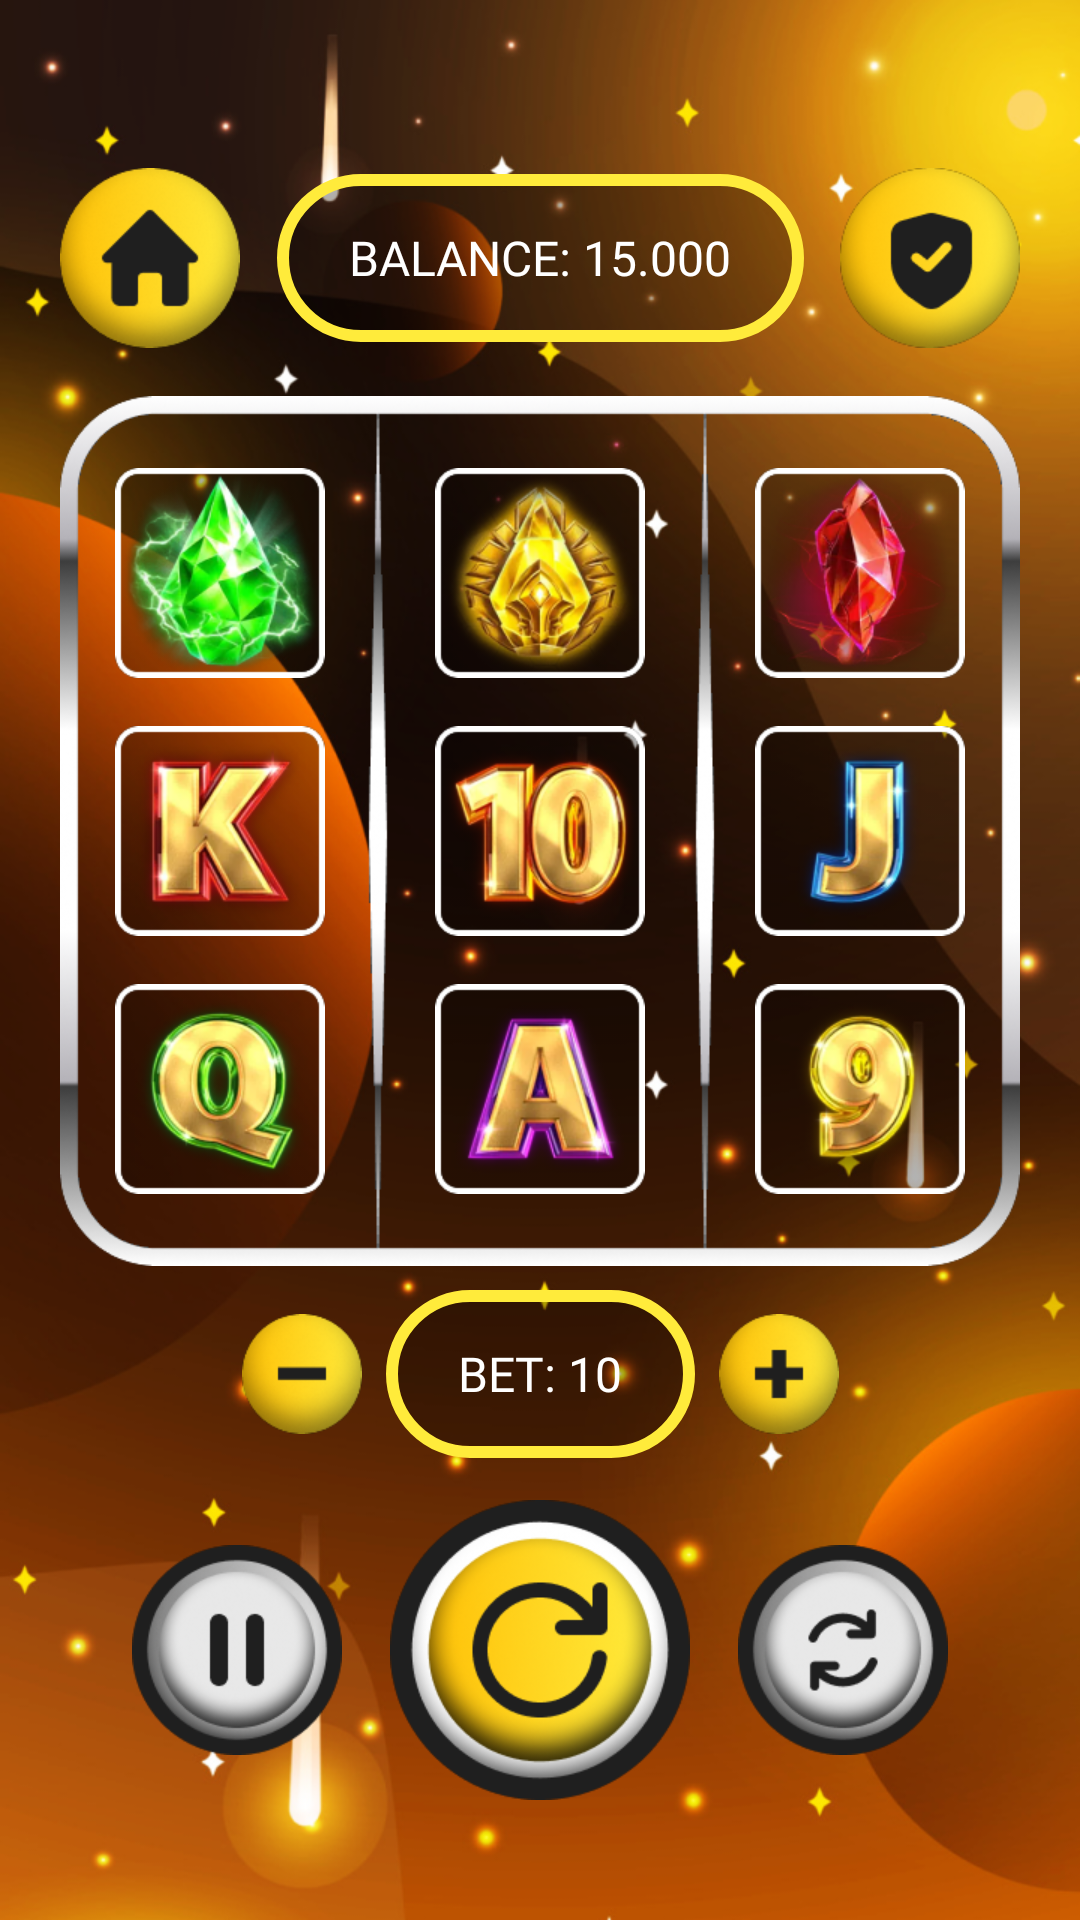

Icon click points for this 1080*1920 phone screenshot, format [x,y]:
autospin: [843,1650]
bet minus: [302,1374]
bet plus: [779,1374]
home: [150,258]
pause: [237,1650]
privacy: [930,258]
spin: [540,1650]
